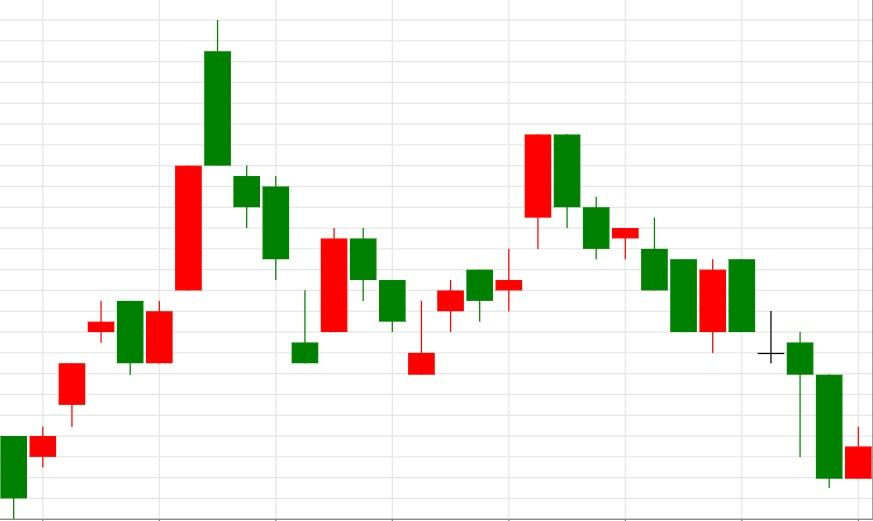inverse_hammer_rise: (319, 228, 436, 375)
